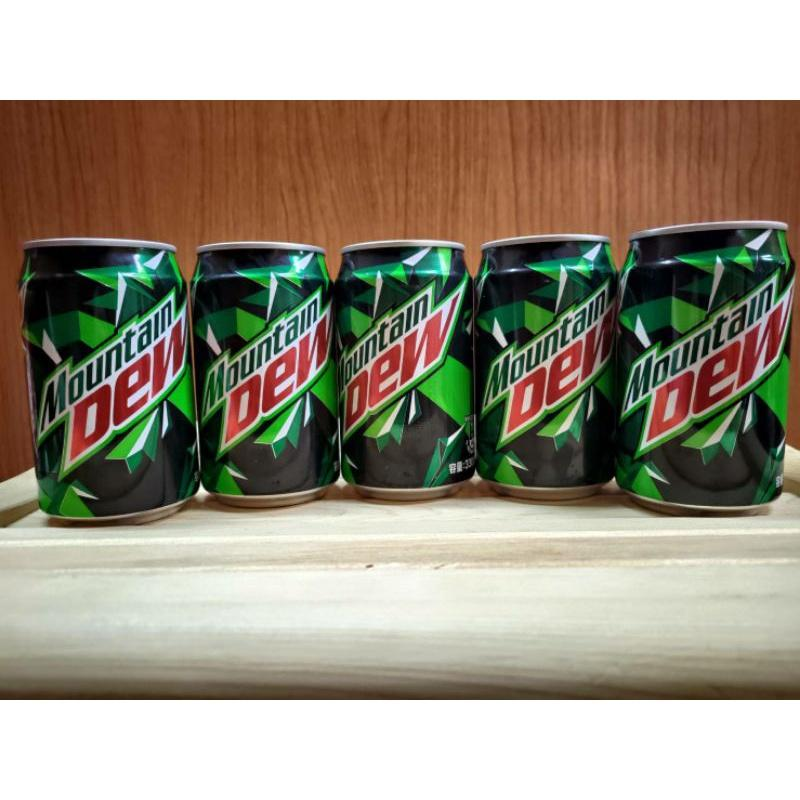metal: (16, 220, 800, 524)
